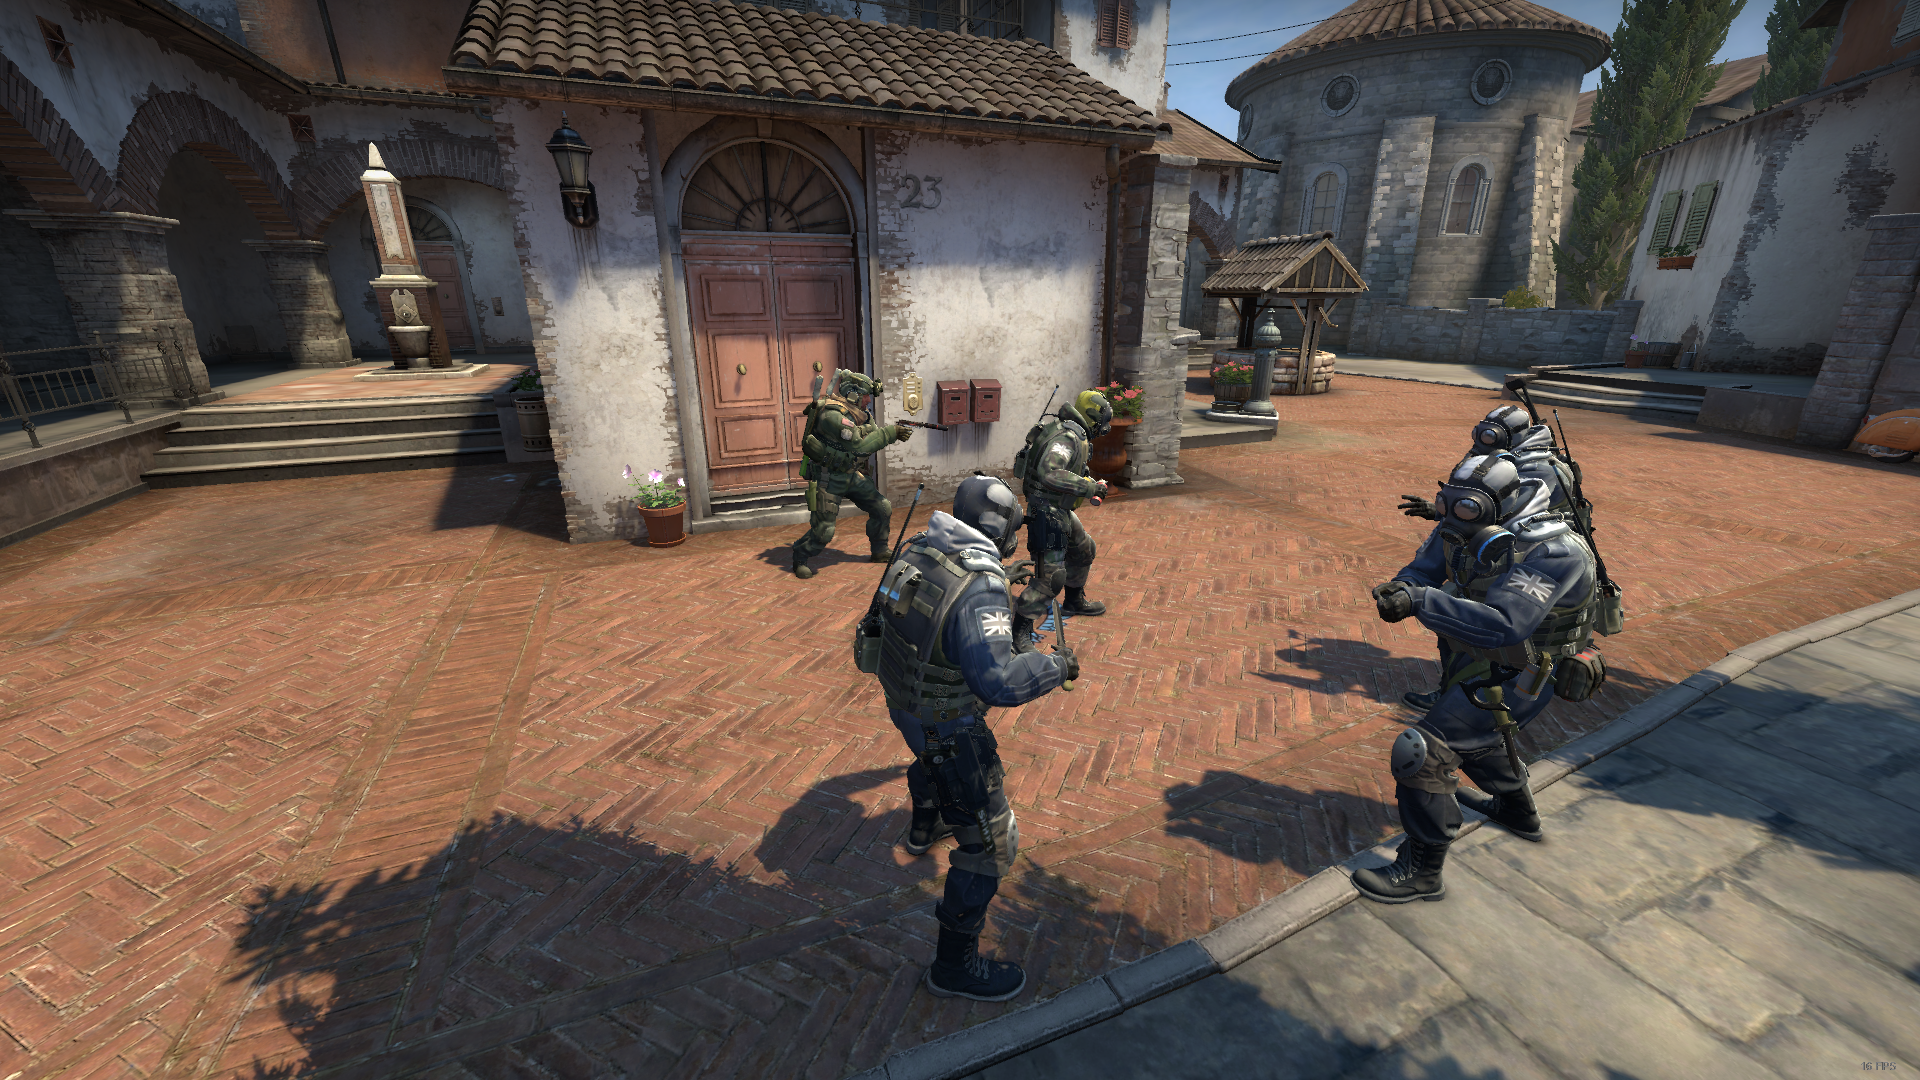ct: (848, 477, 1084, 1013), (1357, 454, 1598, 924), (1402, 400, 1613, 737)
t: (851, 469, 1077, 1017)
